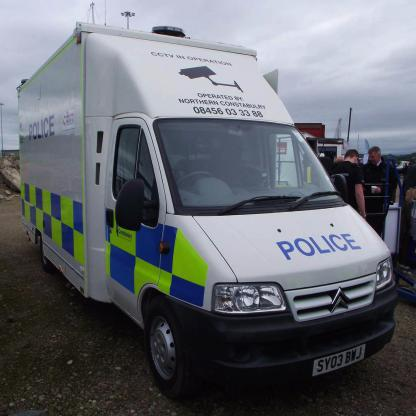Ambulance: (10, 17, 397, 401)
